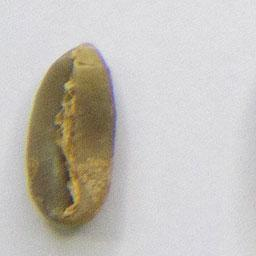longberry: (23, 40, 121, 230)
